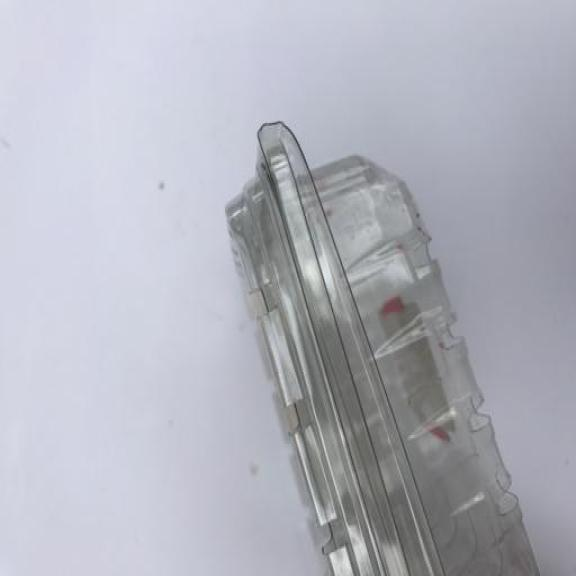Plastik: (210, 111, 549, 576)
